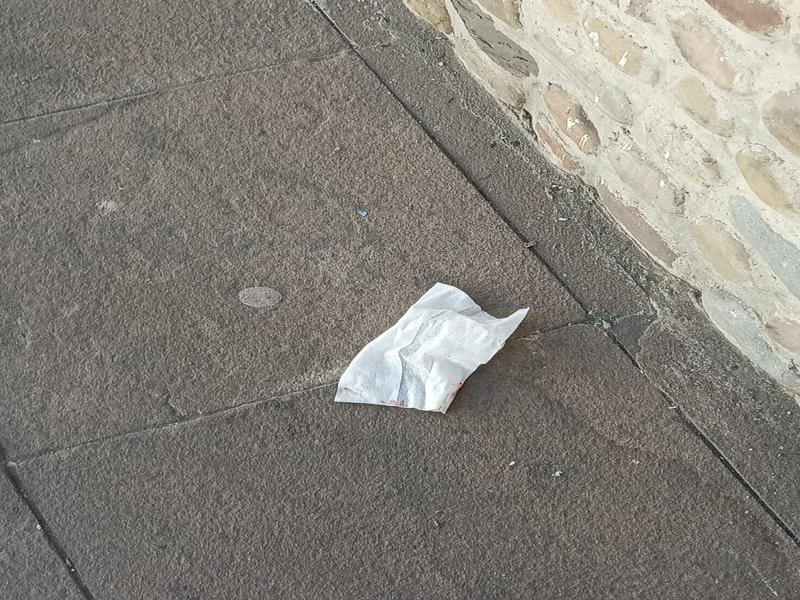papel: (334, 284, 531, 415)
